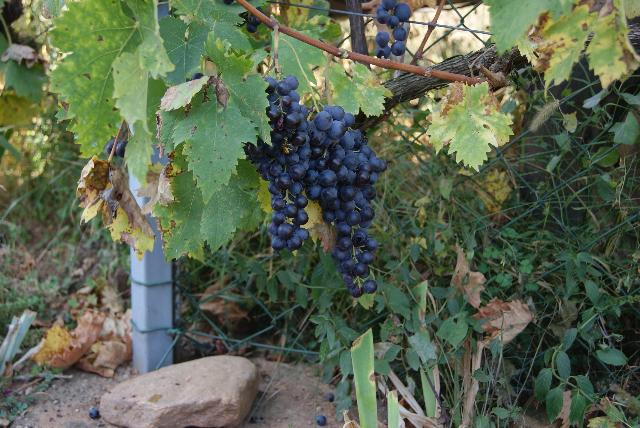grapes: (302, 105, 388, 298), (246, 75, 312, 250)
